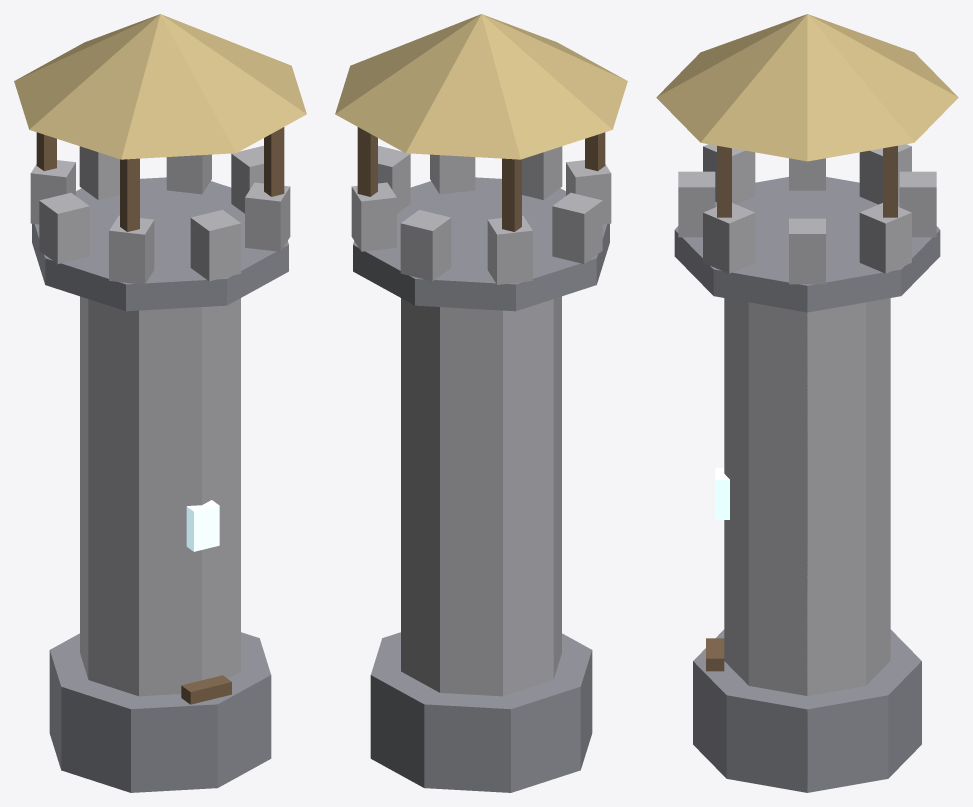
Rendered from watchtower.glb.
3 renders of one model, left to right at view 1: azimuth 30°, elevation 25°; view 2: azimuth 150°, elevation 25°; view 3: azimuth 270°, elevation 25°, orthographic.
Visible parts, largest first — view 1: TowerBase; view 2: TowerBase; view 3: TowerBase.
Boxes of the visible parts, left/top/right/bottom form: TowerBase: left=14, top=14, right=306, bottom=792; TowerBase: left=335, top=14, right=627, bottom=792; TowerBase: left=656, top=14, right=958, bottom=792.
Size of the model in its own units: 1.64 by 4.37 by 1.64.
